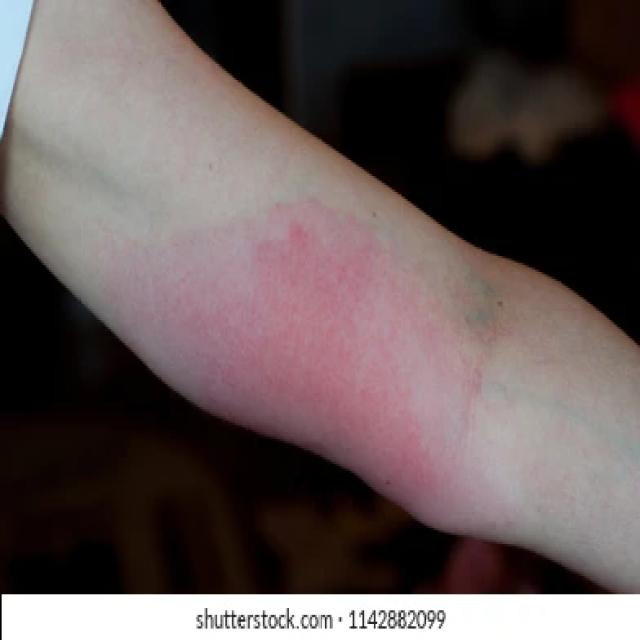stage-1: (158, 197, 475, 507)
